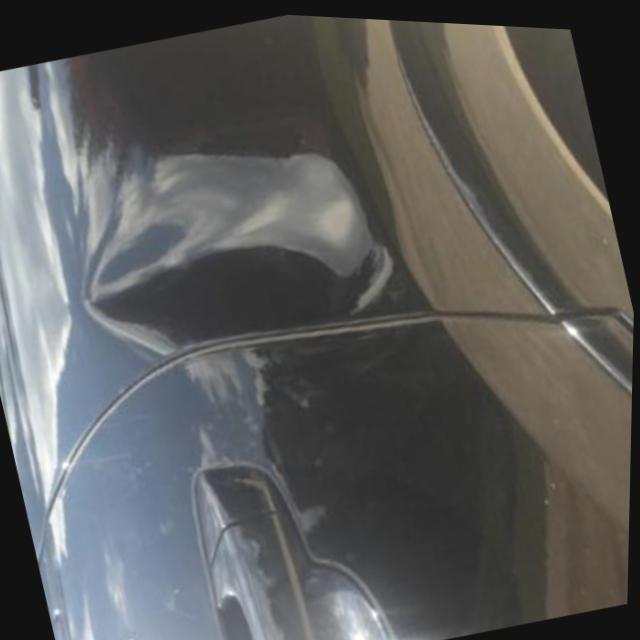Dent: (76, 138, 395, 360)
